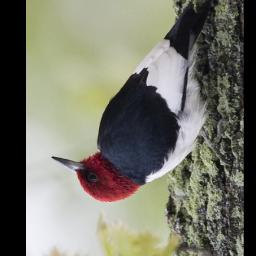Woodpecker: (42, 0, 227, 206)
